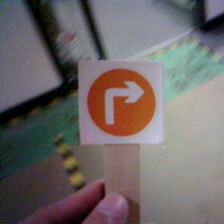right: (78, 59, 167, 145)
